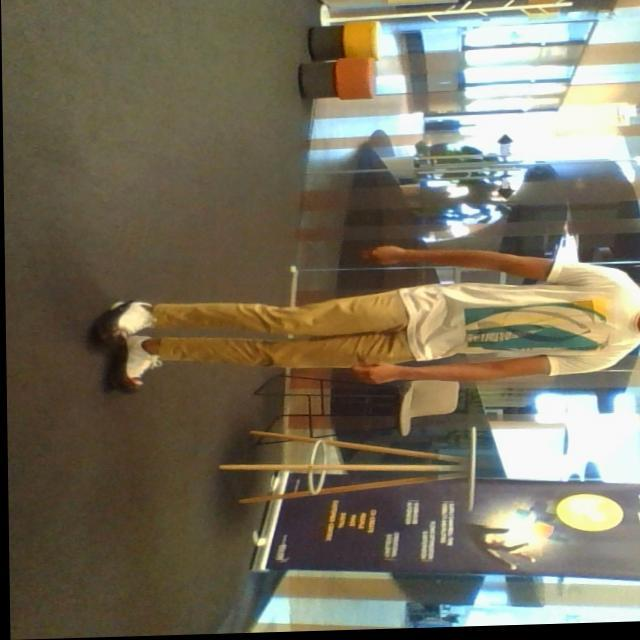shoes: (92, 290, 157, 360), (98, 346, 173, 398)
